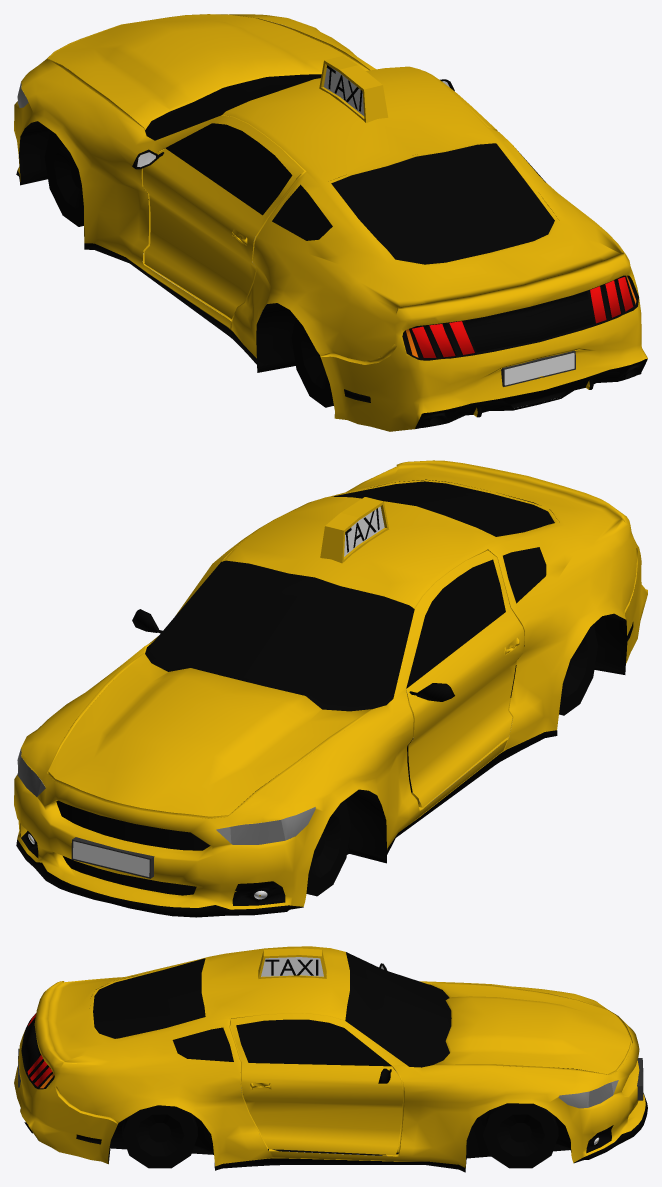
Rendered from mustang_tax_sedan.fbx.
3 renders of one model, top to bottom at view 1: azimuth 30°, elevation 25°; view 2: azimuth 150°, elevation 25°; view 3: azimuth 270°, elevation 25°, orthographic. The views are drawn at different scales.
Parts seen in each view (by area): view 1: body.005, windows.002, exterior.010, Cube.001, Object016, Object015, Cube; view 2: body.005, windows.002, exterior.010, Cube.001, Object016, Cube.002, Object015; view 3: body.005, windows.002, exterior.010, Object017, Object005, Cube.001, Text.
Part boxes in pixels (<box>): body.005: <box>14,14,647,431</box>; windows.002: <box>17,74,554,264</box>; exterior.010: <box>16,69,647,428</box>; Cube.001: <box>319,56,388,122</box>; Object016: <box>44,131,83,226</box>; Object015: <box>291,317,333,407</box>; Cube: <box>501,350,575,386</box>; body.005: <box>14,460,647,909</box>; windows.002: <box>17,481,554,844</box>; exterior.010: <box>16,479,633,917</box>; Cube.001: <box>320,497,389,563</box>; Object016: <box>306,801,351,896</box>; Cube.002: <box>71,837,154,878</box>; Object015: <box>559,624,597,715</box>; body.005: <box>14,946,645,1167</box>; windows.002: <box>93,952,618,1108</box>; exterior.010: <box>21,963,647,1172</box>; Object017: <box>482,1103,558,1168</box>; Object005: <box>122,1105,197,1168</box>; Cube.001: <box>258,948,326,978</box>; Text: <box>265,959,318,975</box>.
Size of the model in its own units: 114 by 79.62 by 268.
